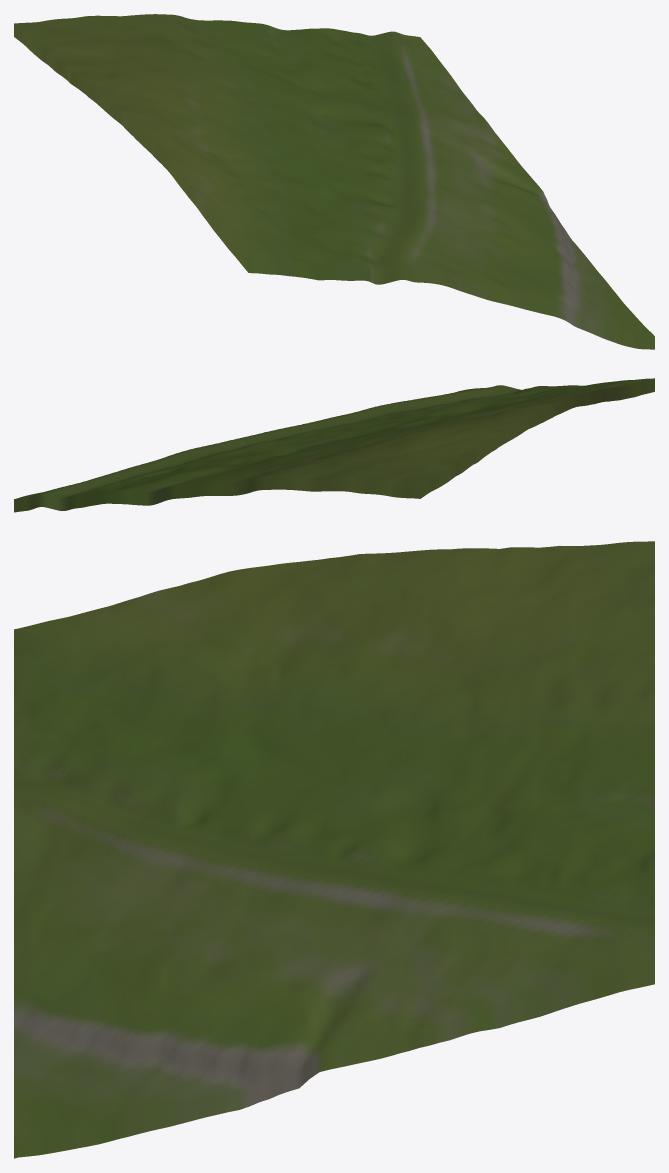
File: terrain_3_-5.glb
The picture shows the model from 3 angles, top to bottom: view 1: azimuth 30°, elevation 25°; view 2: azimuth 150°, elevation 25°; view 3: azimuth 270°, elevation 25°; orthographic projection. The views are drawn at different scales.
Visible parts, largest first — view 1: terrain_3_-5; view 2: terrain_3_-5; view 3: terrain_3_-5.
Part boxes in pixels (<box>): terrain_3_-5: <box>14,14,654,349</box>; terrain_3_-5: <box>14,378,654,512</box>; terrain_3_-5: <box>14,541,654,1158</box>.
Bounding box in the file's own units: 256 × 153 × 256.
